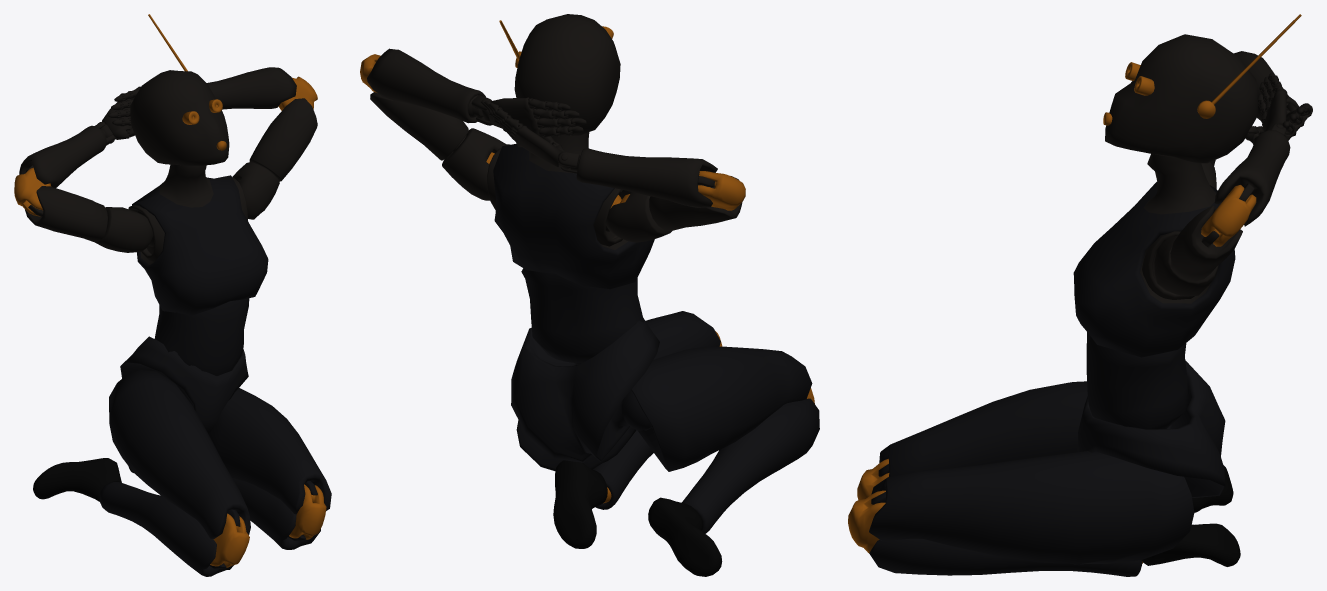
Rendered from robot_gi1_figure.glb.
The picture shows the model from 3 angles, left to right: view 1: azimuth 30°, elevation 25°; view 2: azimuth 150°, elevation 25°; view 3: azimuth 270°, elevation 25°; orthographic projection. The views are drawn at different scales.
Parts seen in each view (by area): view 1: static_g1; view 2: static_g1; view 3: static_g1.
Boxes of the visible parts, left/top/right/bottom form: static_g1: left=14, top=14, right=331, bottom=576; static_g1: left=360, top=14, right=819, bottom=576; static_g1: left=848, top=14, right=1312, bottom=576.
Size of the model in its own units: 0.2027 by 0.279 by 0.2035.
